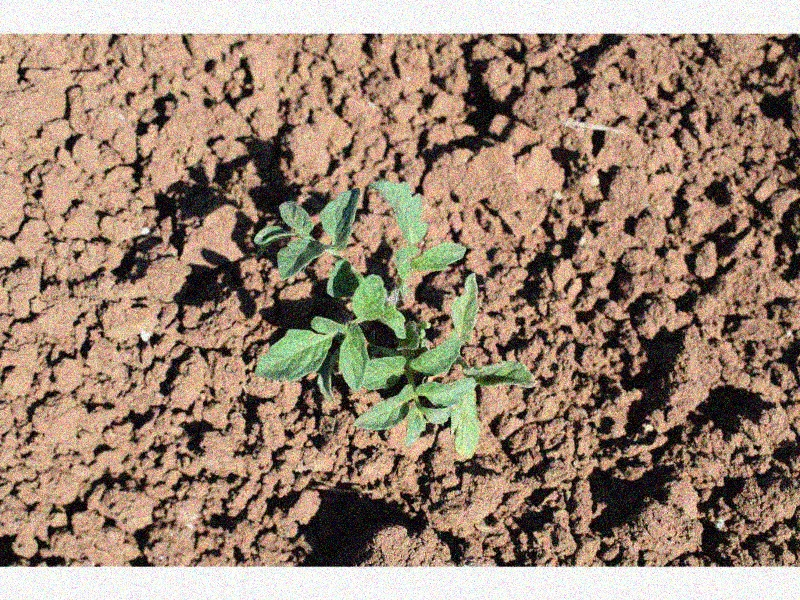tomato: (255, 177, 540, 458)
